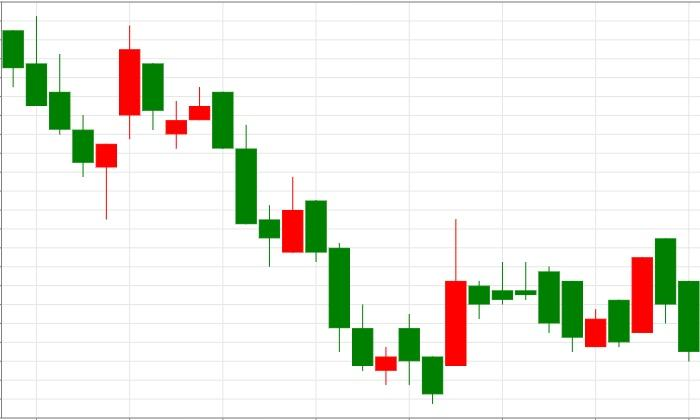hammer_rise: (3, 16, 117, 220)
